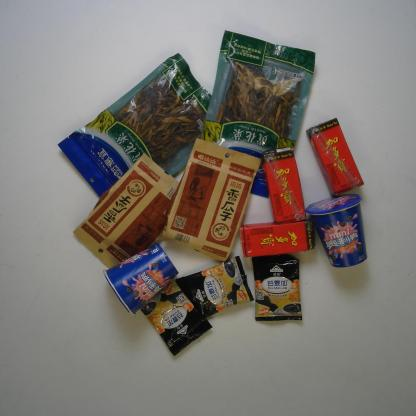Dessert: (102, 243, 182, 319), (300, 189, 369, 271)
Dried Food: (53, 51, 224, 207), (200, 29, 318, 163), (69, 150, 181, 275), (162, 135, 262, 264)
Drink: (302, 114, 364, 198), (257, 145, 308, 225), (240, 216, 317, 261)
Instant Drink: (140, 279, 213, 360), (172, 256, 256, 320), (250, 254, 305, 326)
